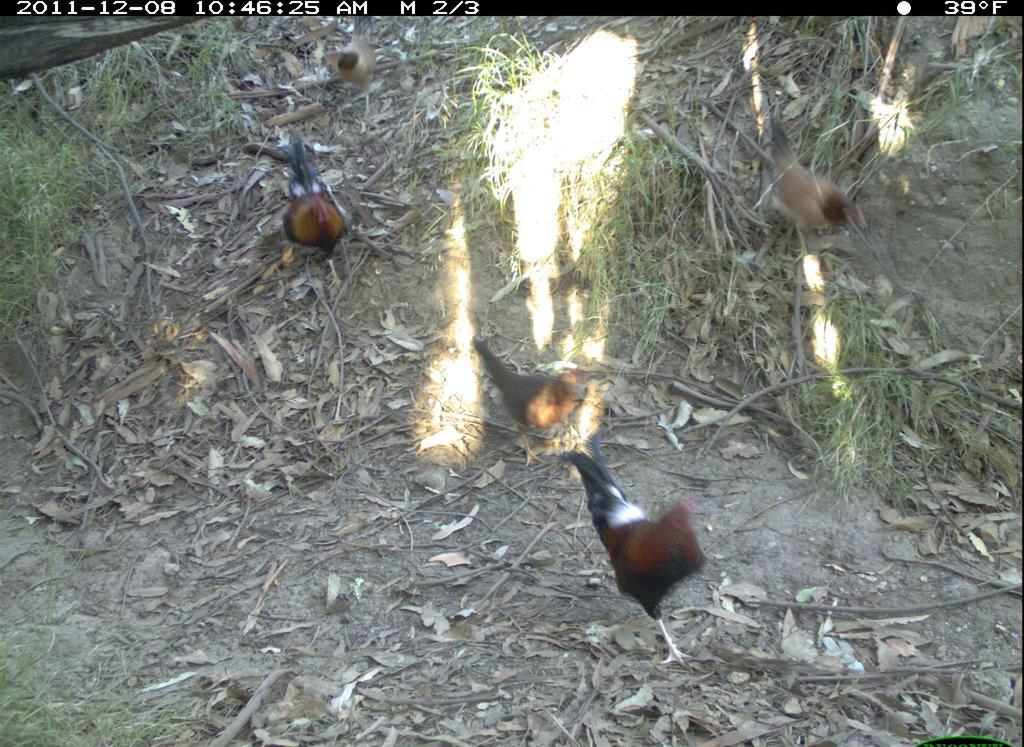bird: (545, 439, 719, 679), (249, 114, 364, 293), (466, 306, 601, 450), (761, 116, 865, 269)
